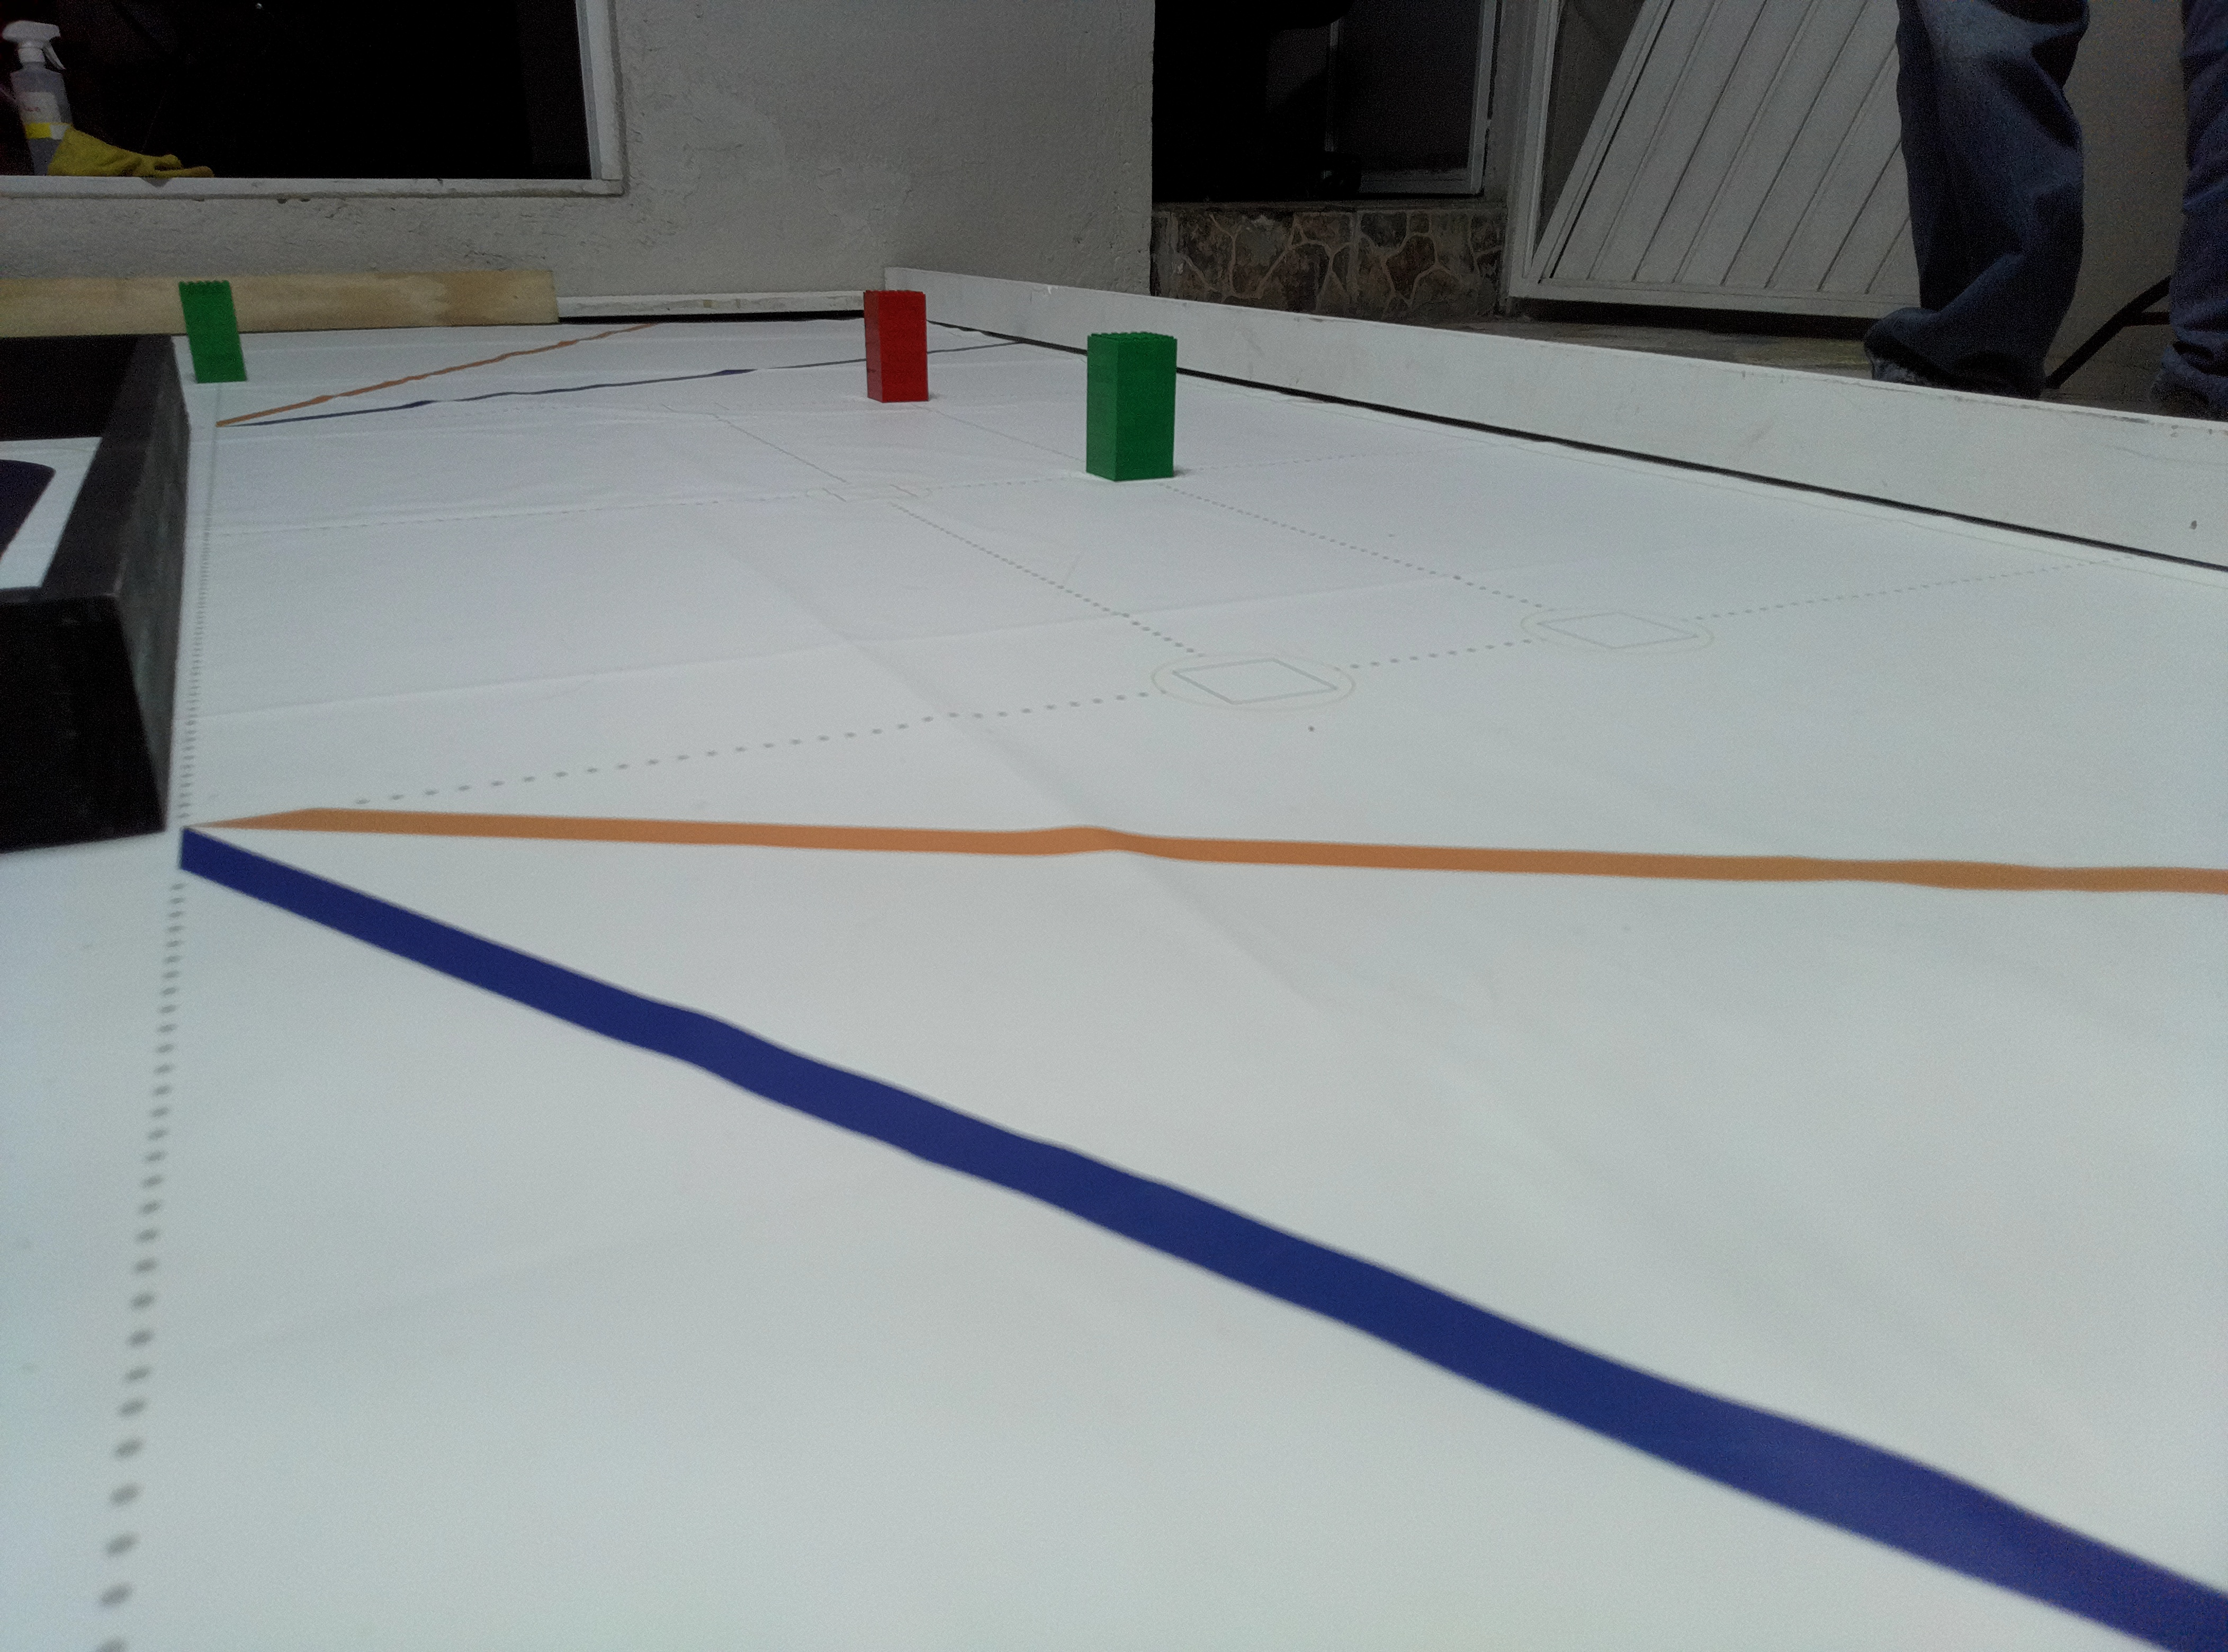greenbox: (1086, 330, 1180, 482), (177, 278, 252, 385)
redbox: (861, 288, 930, 404)
